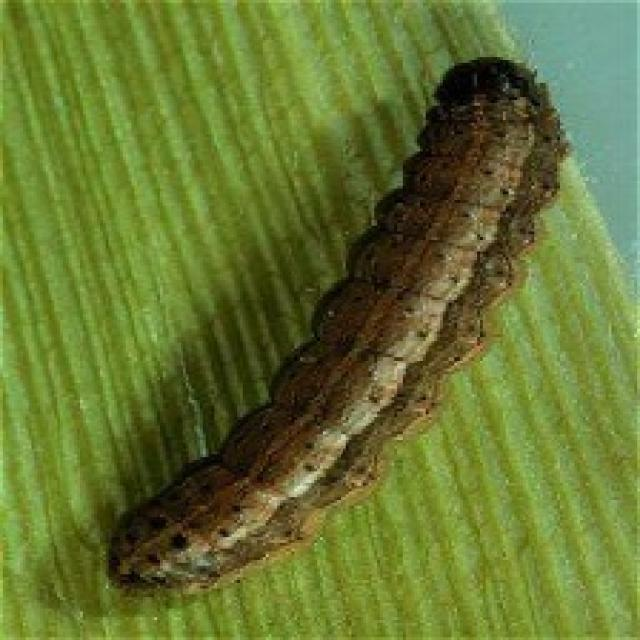armyworm: (84, 44, 581, 624)
